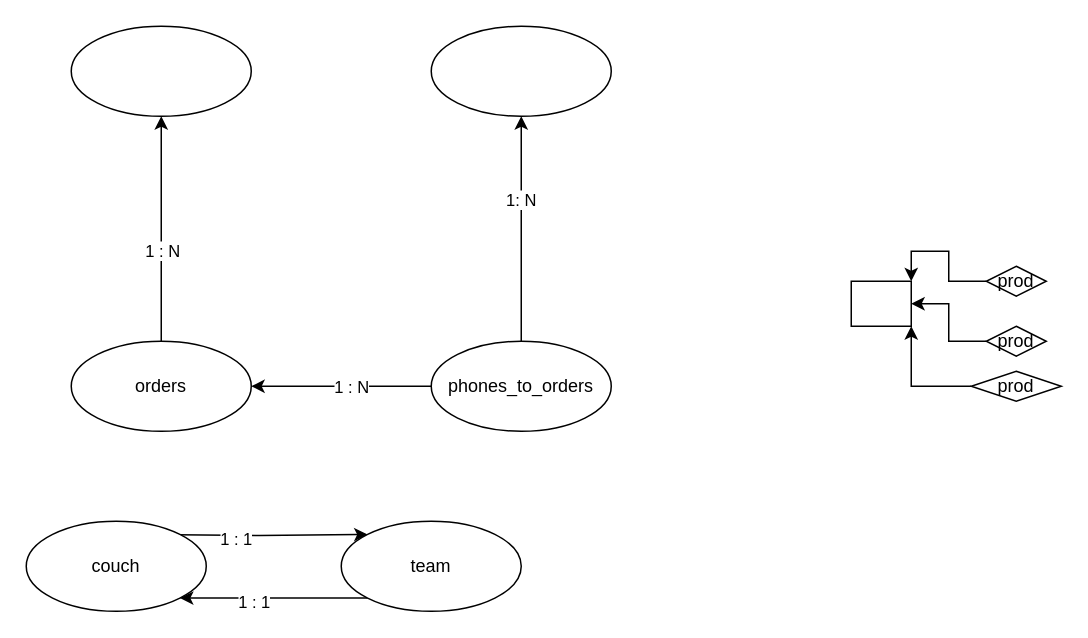
The diagram is 1088 pixels wide and 638 high, and some of its shapes have lost their labels. Each missing label, with the centre of its shape:
"order" goes at (880,303).
"phones" goes at (520,70).
"users" goes at (160,70).
